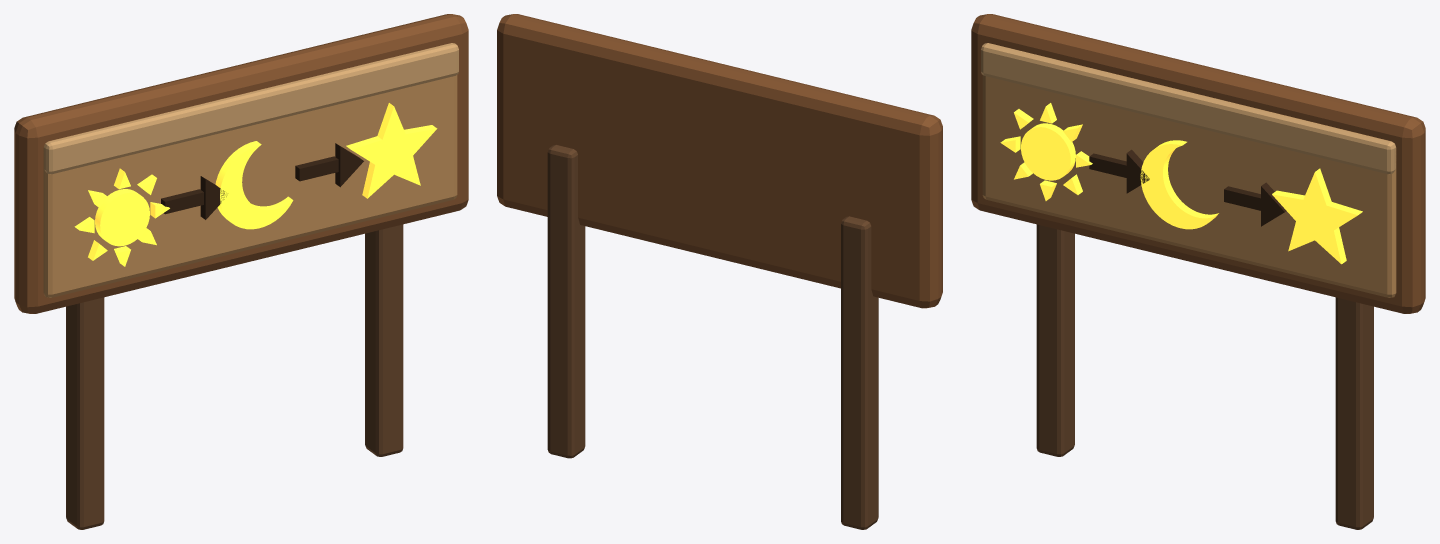
The model's file is placa-da-ordem.glb.
The picture shows the model from 3 angles, left to right: view 1: azimuth 30°, elevation 25°; view 2: azimuth 150°, elevation 25°; view 3: azimuth 330°, elevation 25°; orthographic projection.
Visible parts, largest first — view 1: placa-da-ordem; view 2: placa-da-ordem; view 3: placa-da-ordem.
Boxes of the visible parts, <box> form: placa-da-ordem: <box>14,14,468,529</box>; placa-da-ordem: <box>497,14,942,529</box>; placa-da-ordem: <box>971,14,1425,529</box>.
Bounding box in the file's own units: 1.5 × 1.36 × 0.1901.
